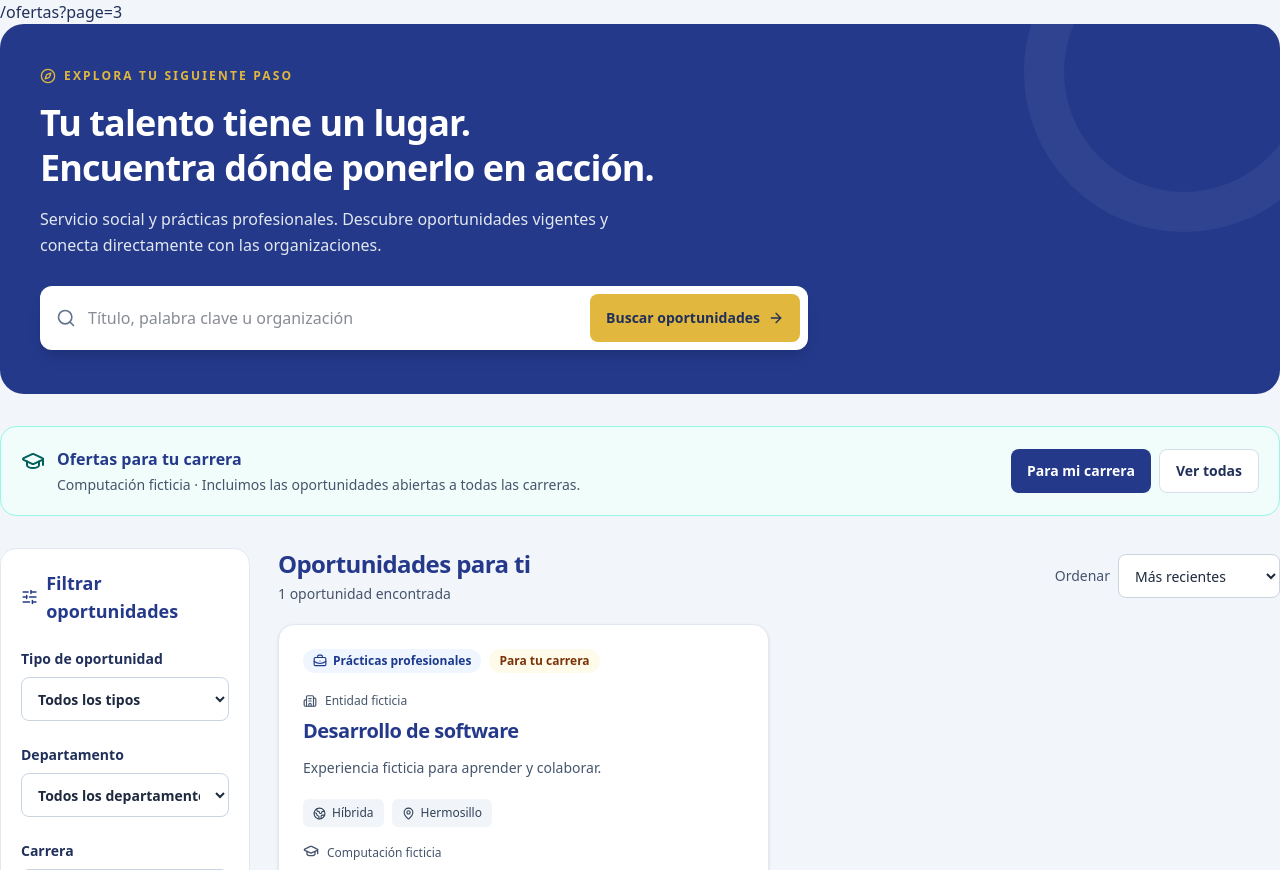
Test: Catálogo para estudiantes y exploración › Ver todas y Para mi carrera cambian alcance y reinician paginación
The image size is (1280, 870).
Expected: the text "Para tu carrera" is shown, [489,649,600,673]
What coordinates should you click on to do the following:
click the button "Ver todas"
I would click on:
 (1209, 471)
Its box is [1159,449,1259,493].
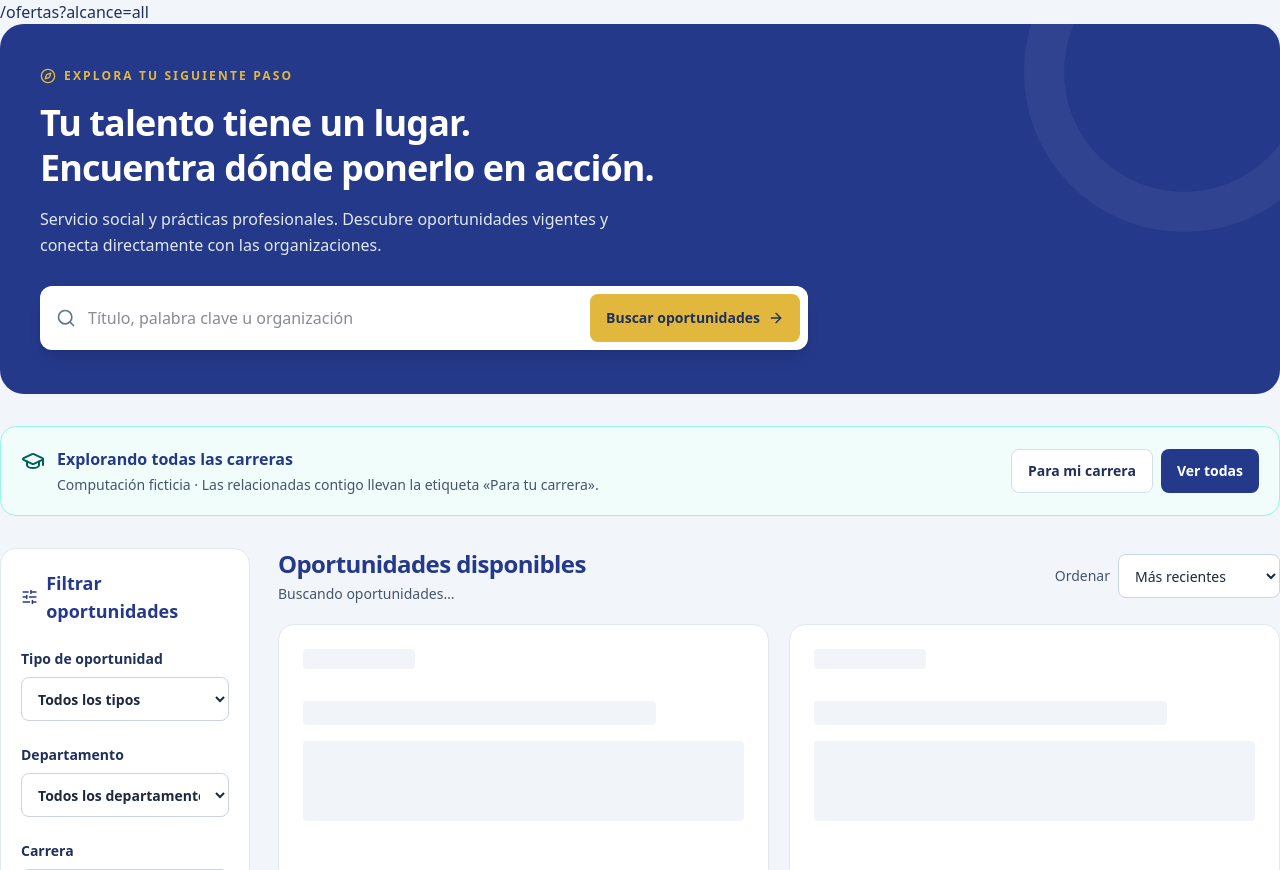
Result: the text with test id "url" reads "/ofertas?alcance=all" at [0,1,149,23]
What coordinates should you click on to do the following:
click the button "Para mi carrera"
I would click on:
 (1082, 471)
Its box is [1011,449,1153,493].
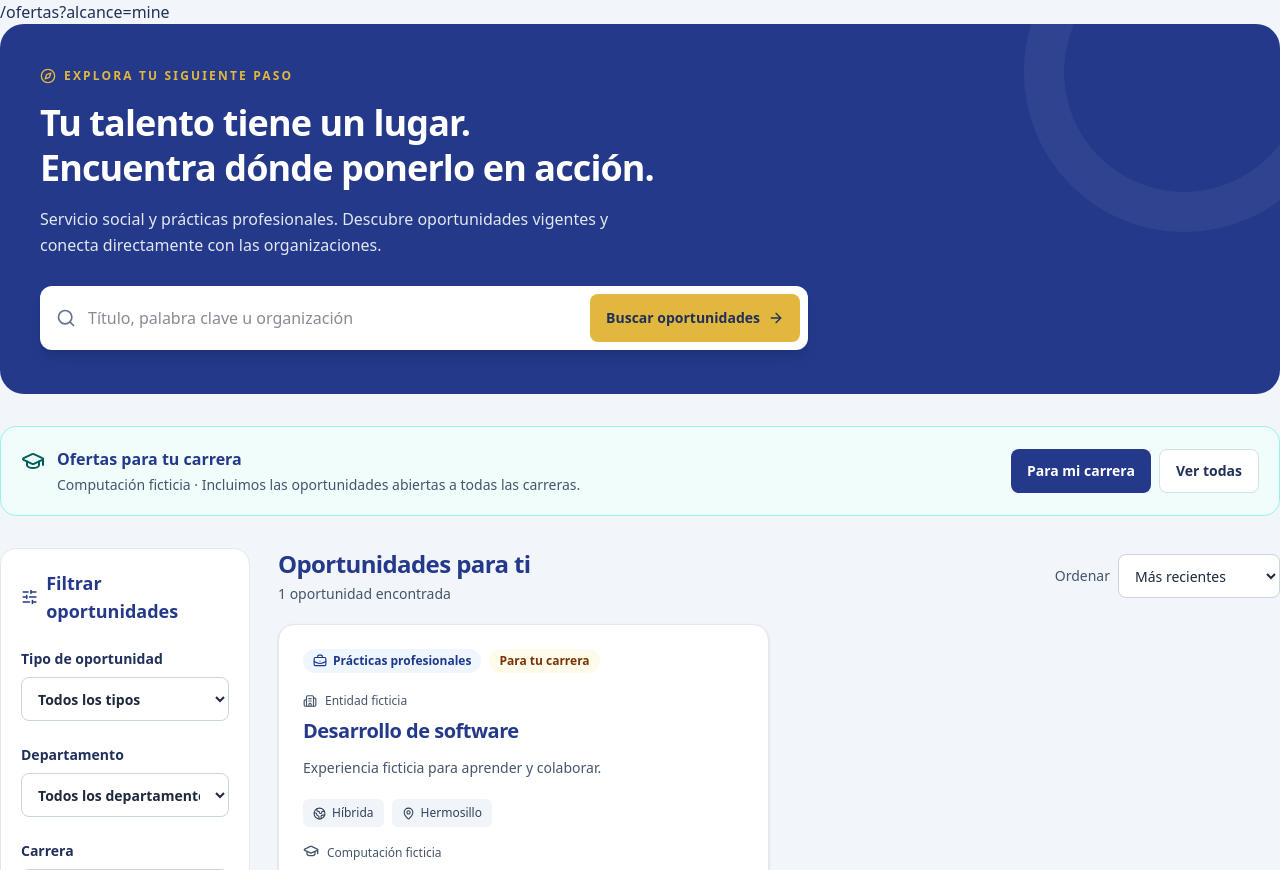
Result: the text with test id "url" reads "/ofertas?alcance=mine" at [0,1,170,23]
